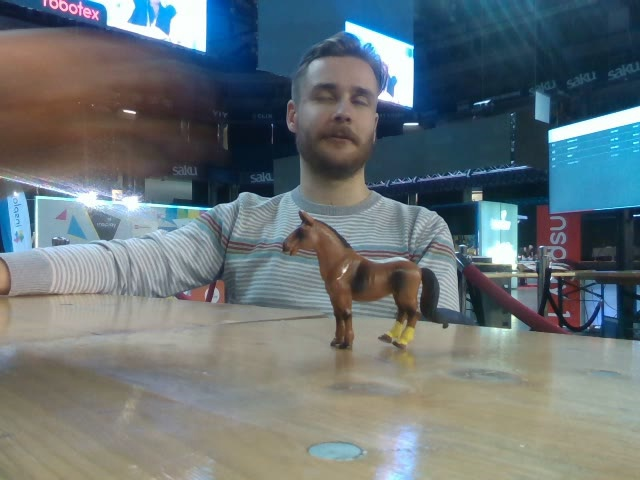toy: (280, 205, 446, 356)
